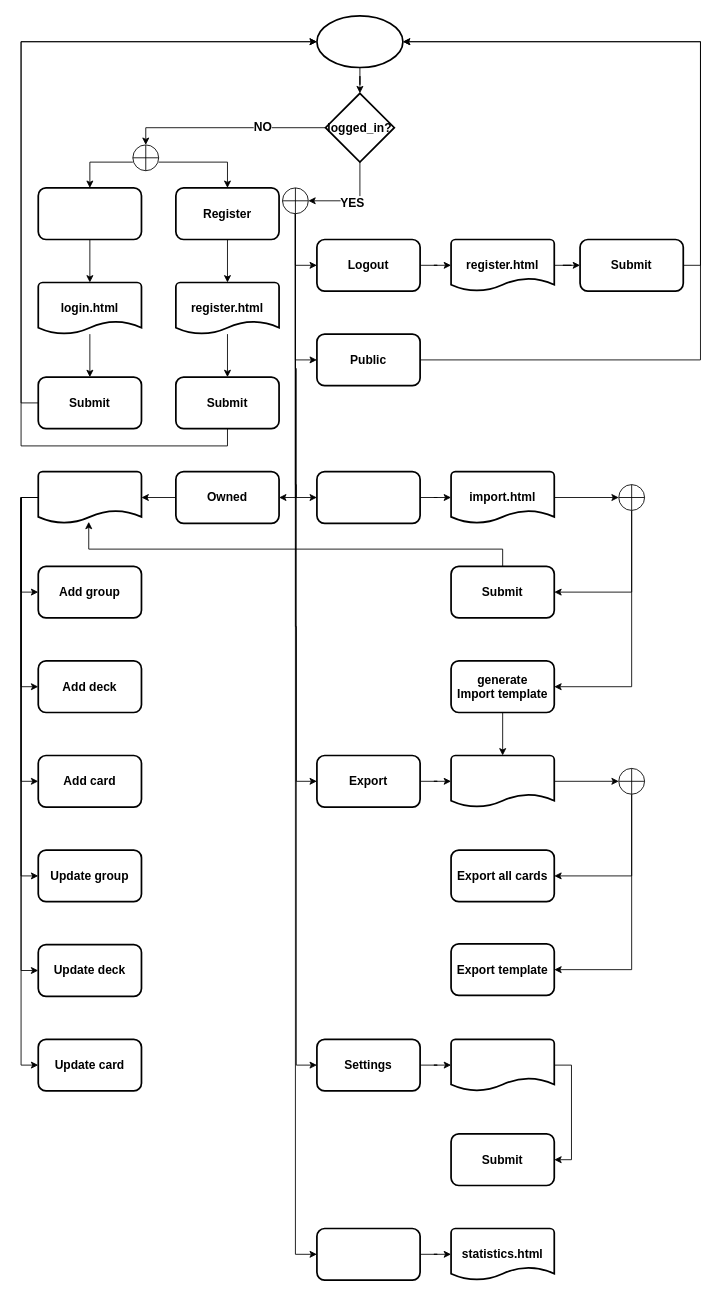
The diagram is 722 pixels wide and 1295 high, and some of its shapes have lost their labels. The shapes that lost their labels are listed below. From the top down, each one's centre as x and y in pixels, then its label:
At (359,41): "index.html (logged out)".
At (89,213): "Login".
At (89,497): "owned.html".
At (368,497): "Import".
At (502,781): "export.html".
At (502,1064): "settings.html".
At (368,1254): "Statistics".
